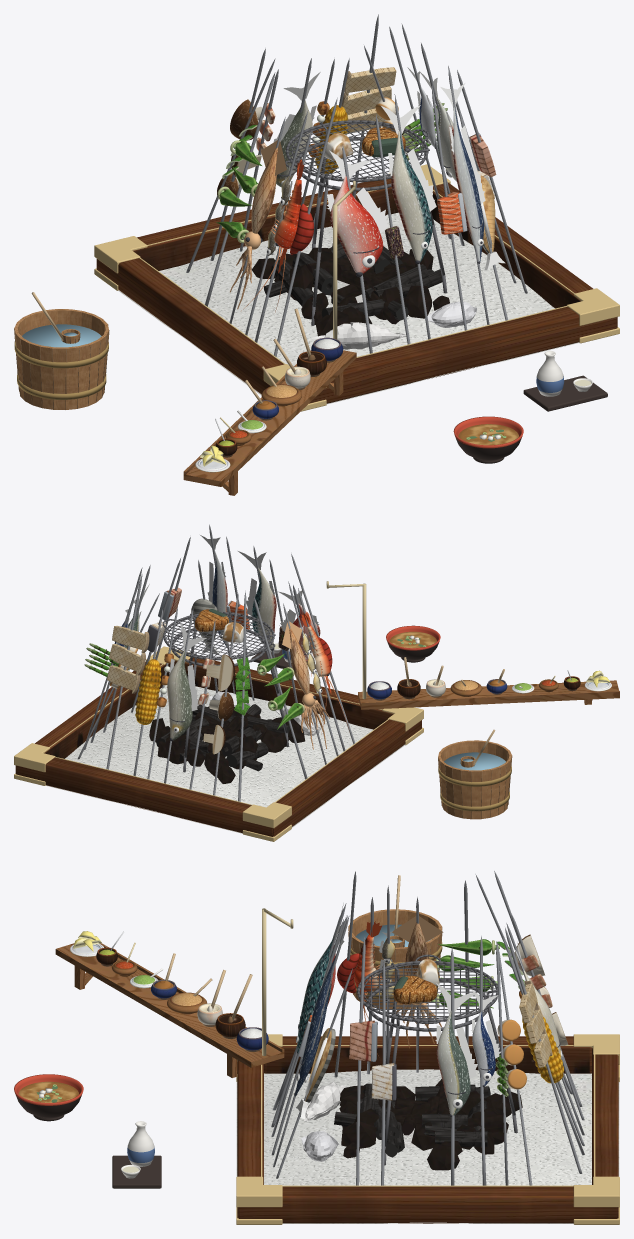
File: grilledfish-lite.glb
3 renders of one model, top to bottom at view 1: azimuth 30°, elevation 25°; view 2: azimuth 150°, elevation 25°; view 3: azimuth 270°, elevation 25°, orthographic. The views are drawn at different scales.
Visible parts, largest first — view 1: Robuchi, FirePit, WaterBucket, BinchotanHeap, GrillNet, Charcoal, Nodoguro, SeasoningBox, Mackerel, Saury, KingOyster, Squid (+25 smaller); view 2: Robuchi, FirePit, WaterBucket, SeasoningBox, BinchotanHeap, Charcoal, GrillNet, ExtraFish, KingOyster, Squid, GrilledShiitake, Mackerel (+21 smaller); view 3: Robuchi, FirePit, BinchotanHeap, GrillNet, Charcoal, SeasoningBox, Aji, WaterBucket, Sake, Iwashi, KingOyster, Squid (+26 smaller).
Part boxes in pixels (x1,y1,x2,y2): Robuchi: (94,164,619,411); FirePit: (118,212,579,404); WaterBucket: (14,309,109,409); BinchotanHeap: (264,243,442,324); GrillNet: (285,120,447,325); Charcoal: (252,237,449,336); Nodoguro: (327,145,388,353); SeasoningBox: (183,350,356,495); Mackerel: (381,94,436,339); Saury: (440,66,489,324); KingOyster: (341,14,396,198); Squid: (229,117,286,323); Robuchi: (14,646,423,841); FirePit: (46,685,405,833); WaterBucket: (438,740,512,819); SeasoningBox: (358,680,619,709); BinchotanHeap: (156,704,290,771); Charcoal: (149,706,305,783); GrillNet: (162,612,289,772); ExtraFish: (164,608,206,783); KingOyster: (106,574,149,769); Squid: (282,603,329,764); GrilledShiitake: (203,593,238,795); Mackerel: (238,546,280,695); Robuchi: (236,1034,619,1224); FirePit: (236,1069,619,1223); BinchotanHeap: (334,1083,503,1157); GrillNet: (357,954,517,1165); Charcoal: (339,1079,522,1170); SeasoningBox: (55,943,284,1077); Aji: (435,947,477,1185); WaterBucket: (348,909,442,1008); Sake: (112,1121,161,1188); Iwashi: (471,936,501,1185); KingOyster: (505,927,582,1173); Squid: (392,897,443,1072).
Size of the model in its own units: 2.92 by 1.37 by 2.96.
113 materials, 69 textured.
